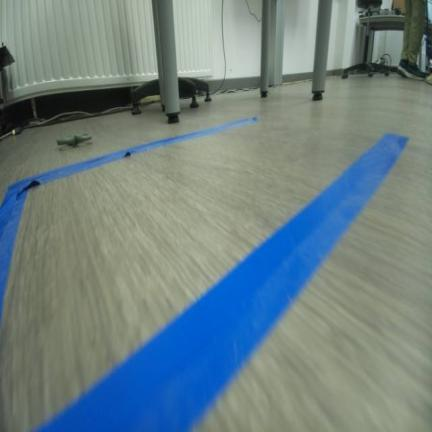place: (0, 113, 412, 431)
